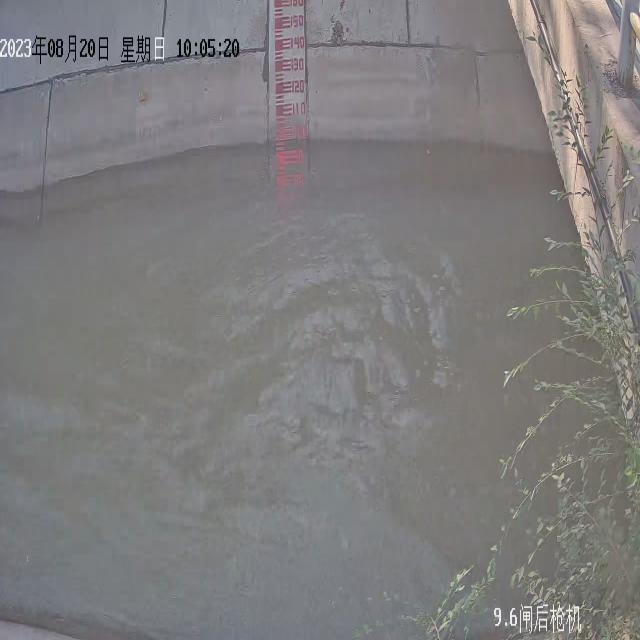ruler: (267, 0, 312, 183)
value: (290, 101, 307, 118), (288, 58, 306, 74), (289, 80, 306, 96), (290, 35, 306, 51), (288, 13, 305, 28), (286, 0, 305, 9)
